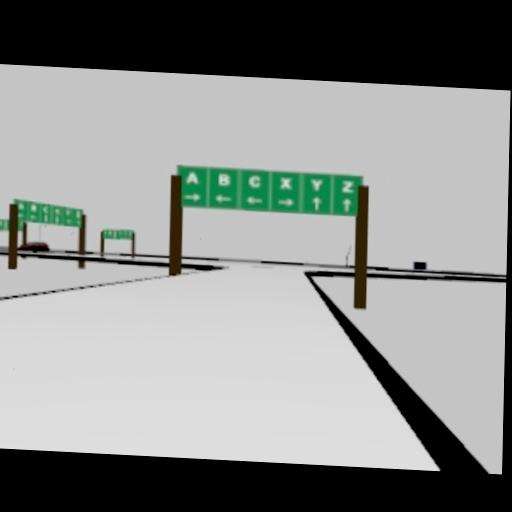A: (186, 172, 198, 184)
B: (218, 174, 230, 186)
C: (247, 175, 261, 188)
Left: (213, 195, 232, 205), (245, 197, 263, 207)
Right: (183, 192, 201, 203), (278, 198, 294, 208)
Straight: (312, 196, 322, 213), (342, 198, 352, 214)
X: (280, 176, 293, 190)
Y: (311, 178, 323, 191)
Z: (340, 180, 352, 194)
